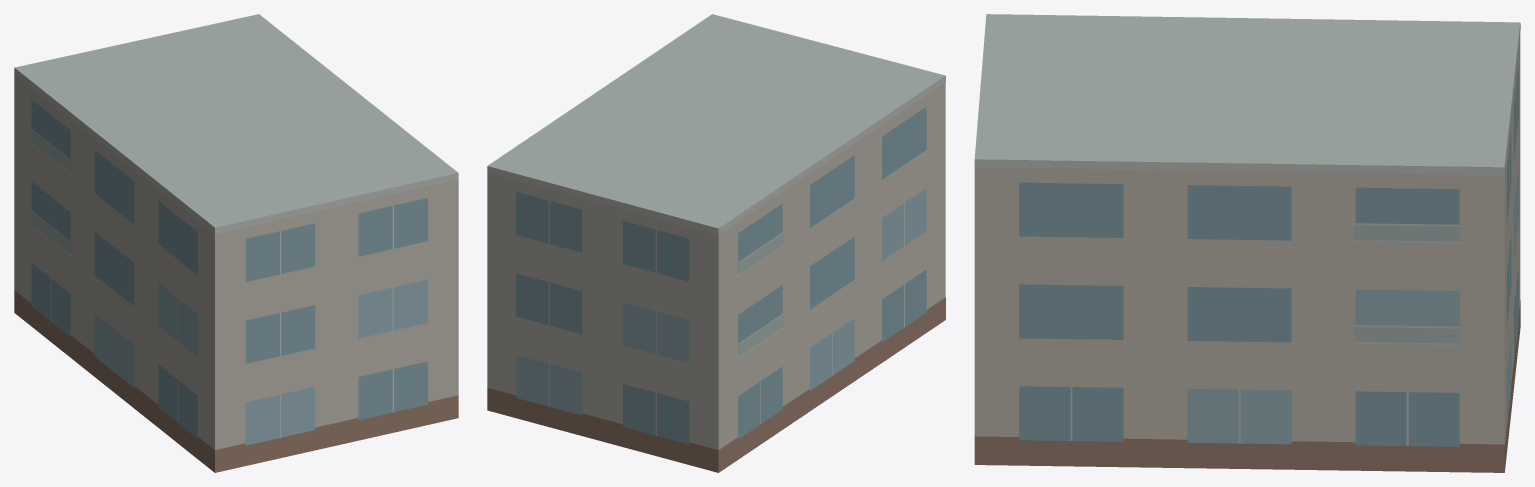
Rendered from survey-upis-32880720.glb.
3 views of the same model, side by side, from view 1: azimuth 30°, elevation 25°; view 2: azimuth 150°, elevation 25°; view 3: azimuth 270°, elevation 25° (orthographic). The views are drawn at different scales.
Parts seen in each view (by area): view 1: survey-upis-32880720.tmp; view 2: survey-upis-32880720.tmp; view 3: survey-upis-32880720.tmp.
Part boxes in pixels (box(x1,y1,x2,y2)): survey-upis-32880720.tmp: box(14, 14, 458, 472); survey-upis-32880720.tmp: box(487, 14, 945, 472); survey-upis-32880720.tmp: box(974, 14, 1520, 472).
Size of the model in its own units: 9.85 by 9.15 by 14.82.
